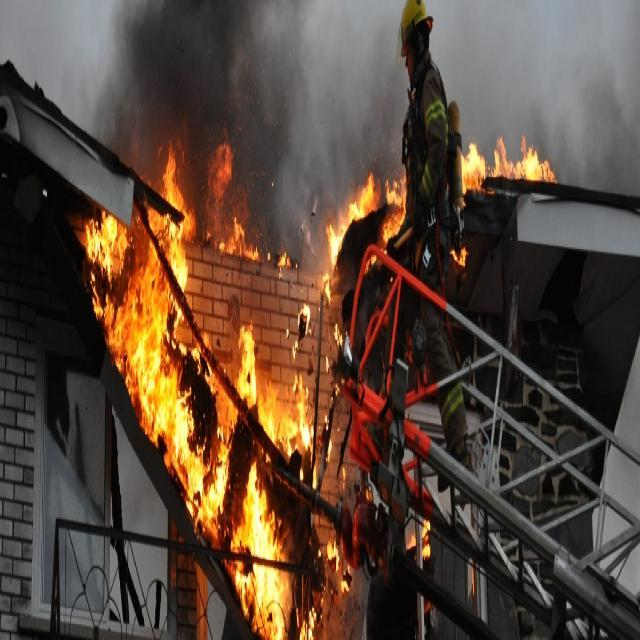Fire: (76, 140, 230, 582), (198, 291, 330, 640), (324, 154, 378, 268), (456, 133, 556, 193)
Smoke: (104, 0, 382, 241)
